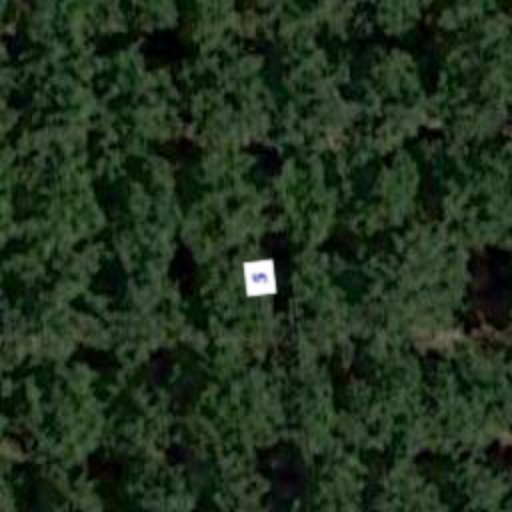rectangle: (240, 258, 280, 298)
